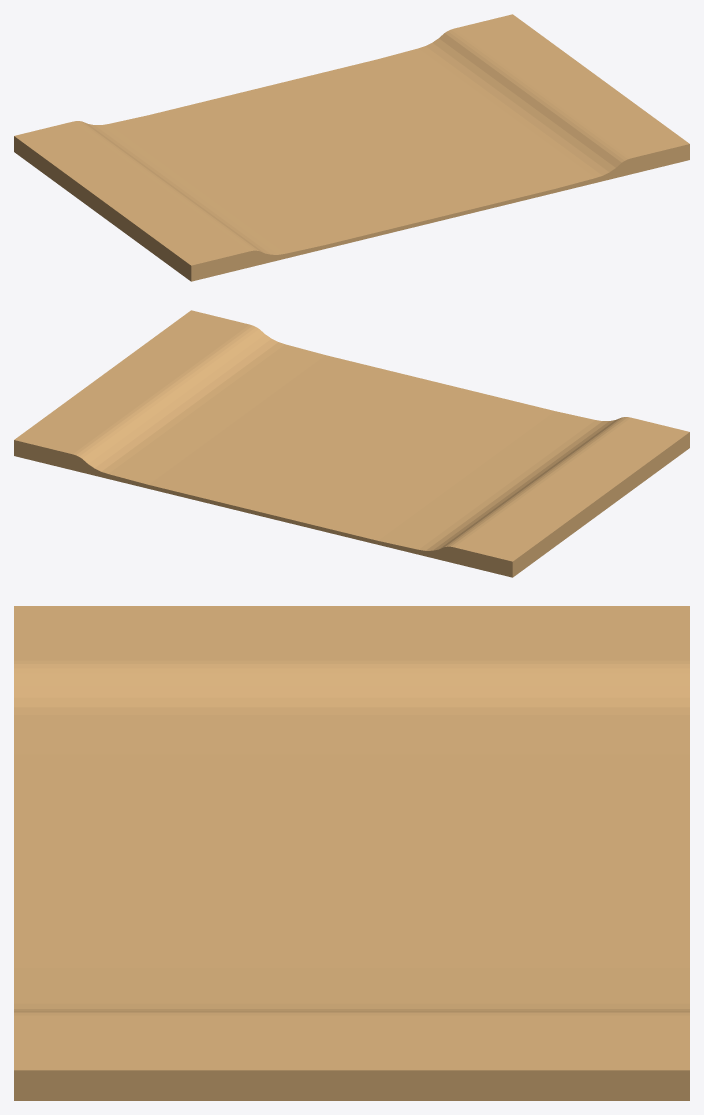
Rendered from t2-u-strip.glb.
3 views of the same model, one above another, from view 1: azimuth 30°, elevation 25°; view 2: azimuth 150°, elevation 25°; view 3: azimuth 270°, elevation 25° (orthographic). The views are drawn at different scales.
Parts seen in each view (by area): view 1: T2_U带.STL; view 2: T2_U带.STL; view 3: T2_U带.STL.
Part boxes in pixels (x1,y1,x2,y2): T2_U带.STL: (14,14,689,281); T2_U带.STL: (14,310,689,577); T2_U带.STL: (14,606,689,1100).
Bounding box in the file's own units: 130 × 4 × 80.
